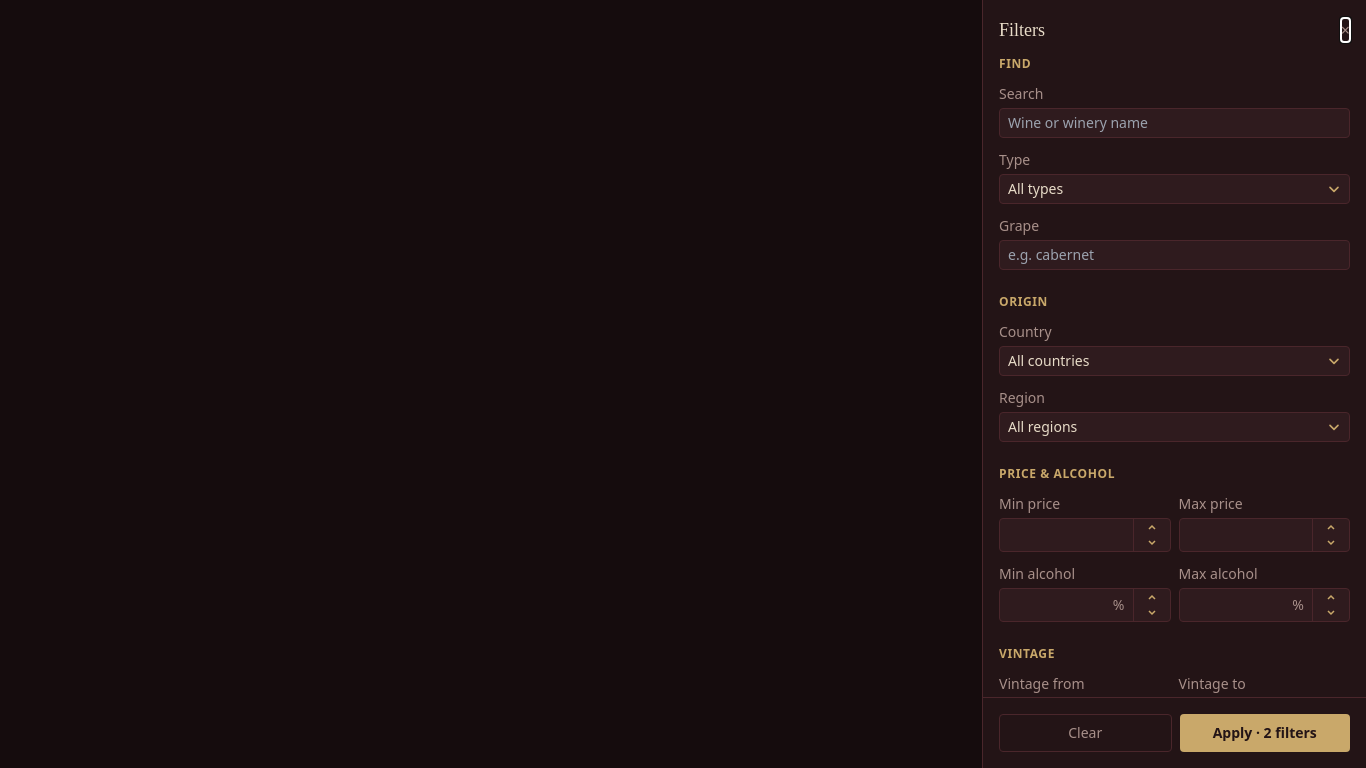
Test: FilterDrawer › rejects an inverted vintage range
Click the button "Apply · 2 filters". click: (1265, 733)
box: [1180,714,1350,752]
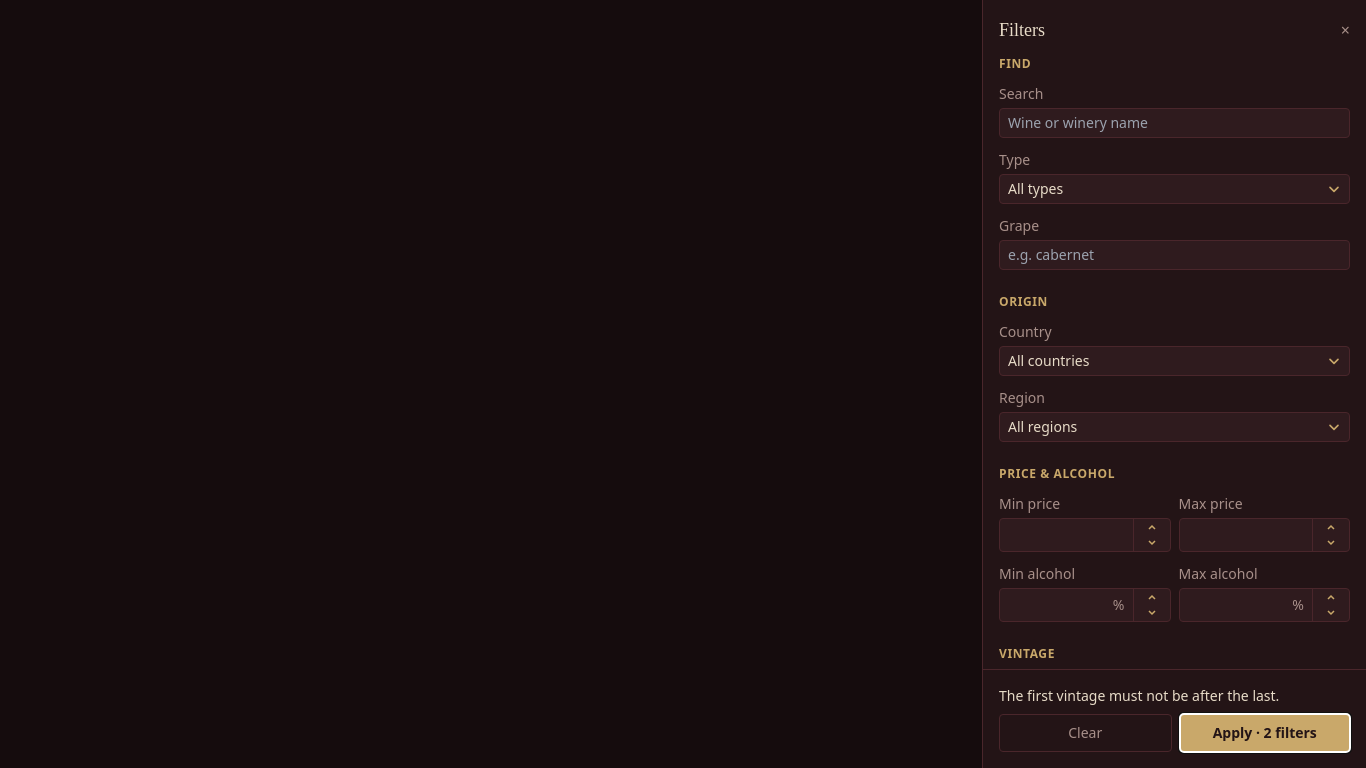
Expected: the message reads "The first vintage must not be after the last.", [999,686,1279,705]
